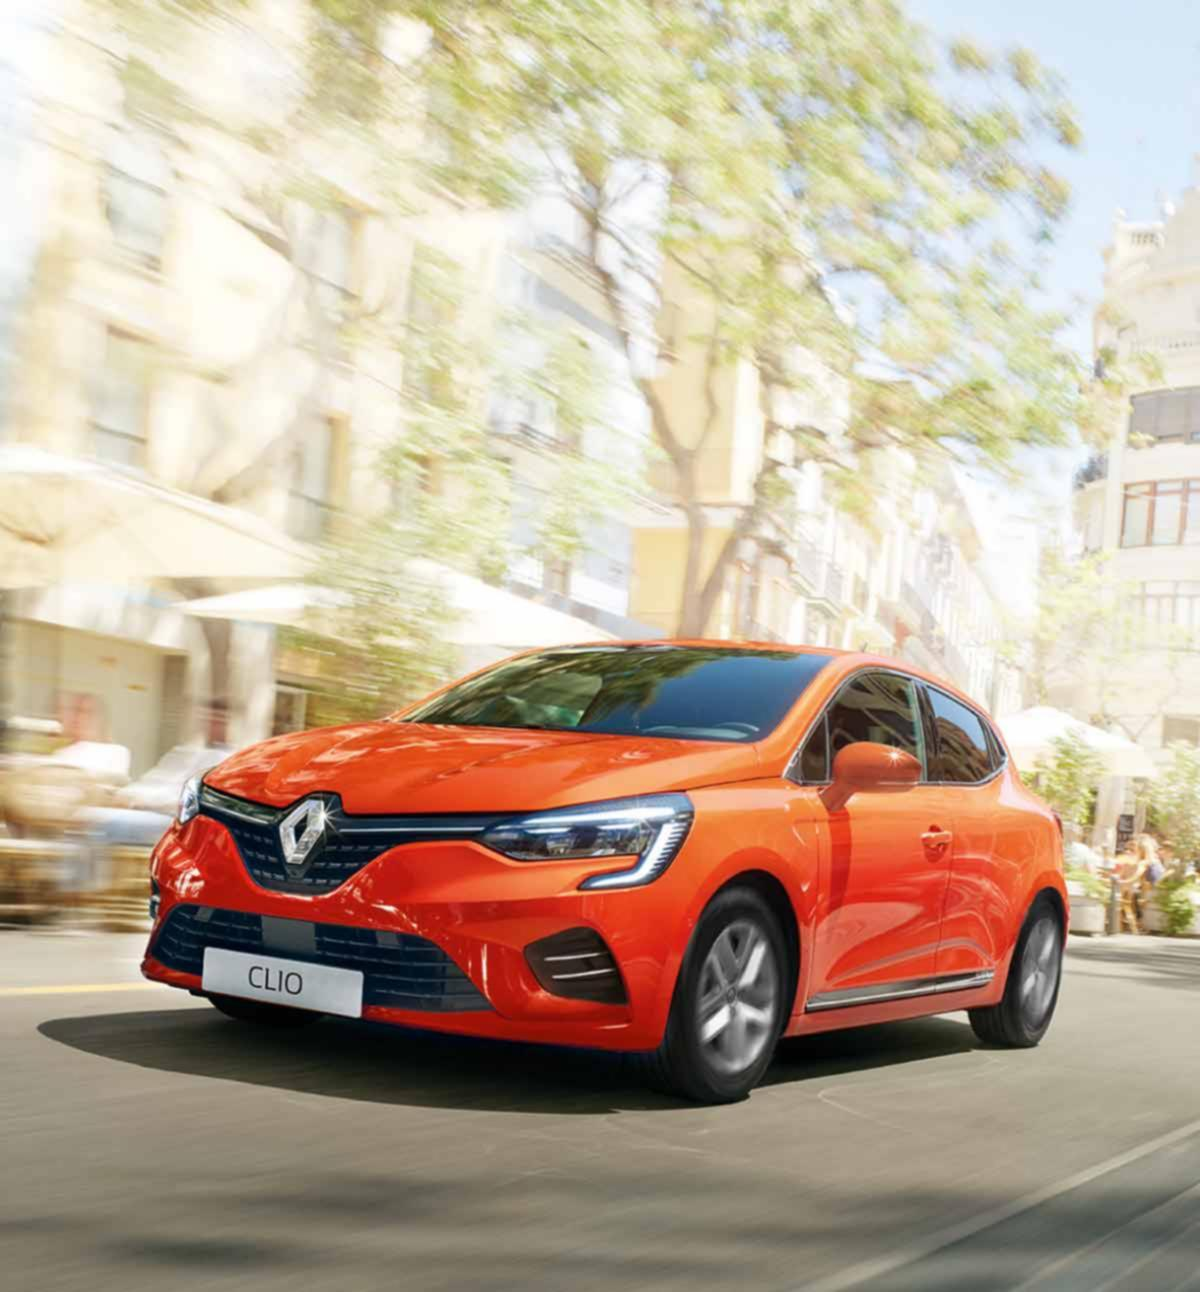Renault: (267, 784, 341, 883)
